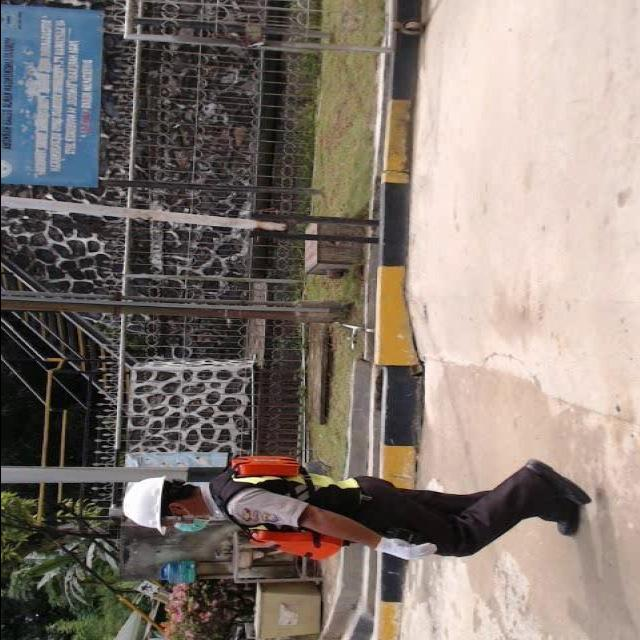helmet: (114, 465, 168, 538)
